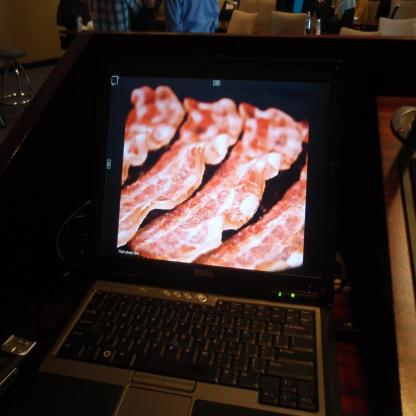board: (22, 70, 322, 416)
